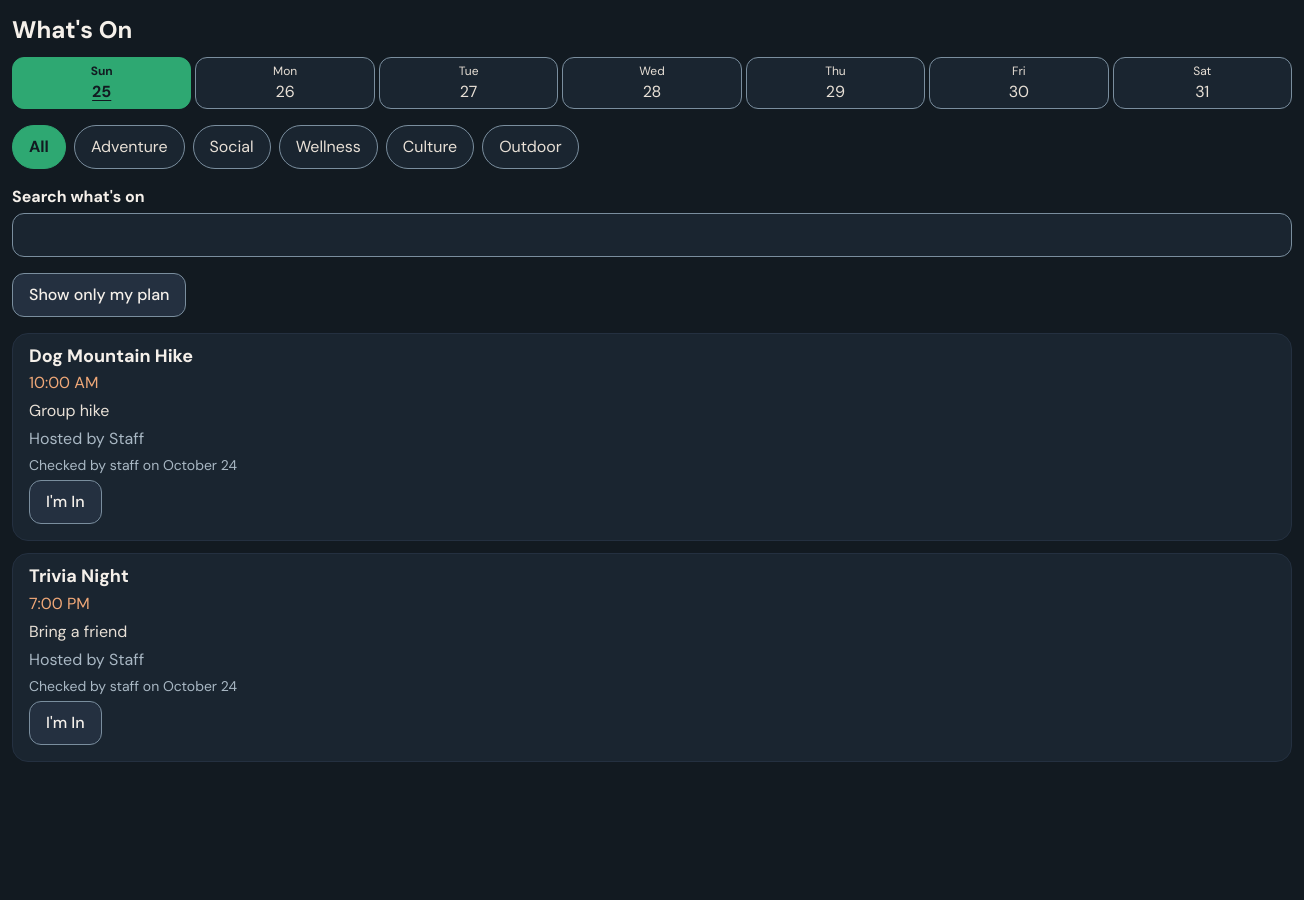
Test: What's On › "I'm In" keeps the activity in a plan on this device only, with no count, and "only my plan" shows just it
Click the button "I'm In" below "Dog Mountain Hike": coordinates (65, 502) [29,480,102,524]
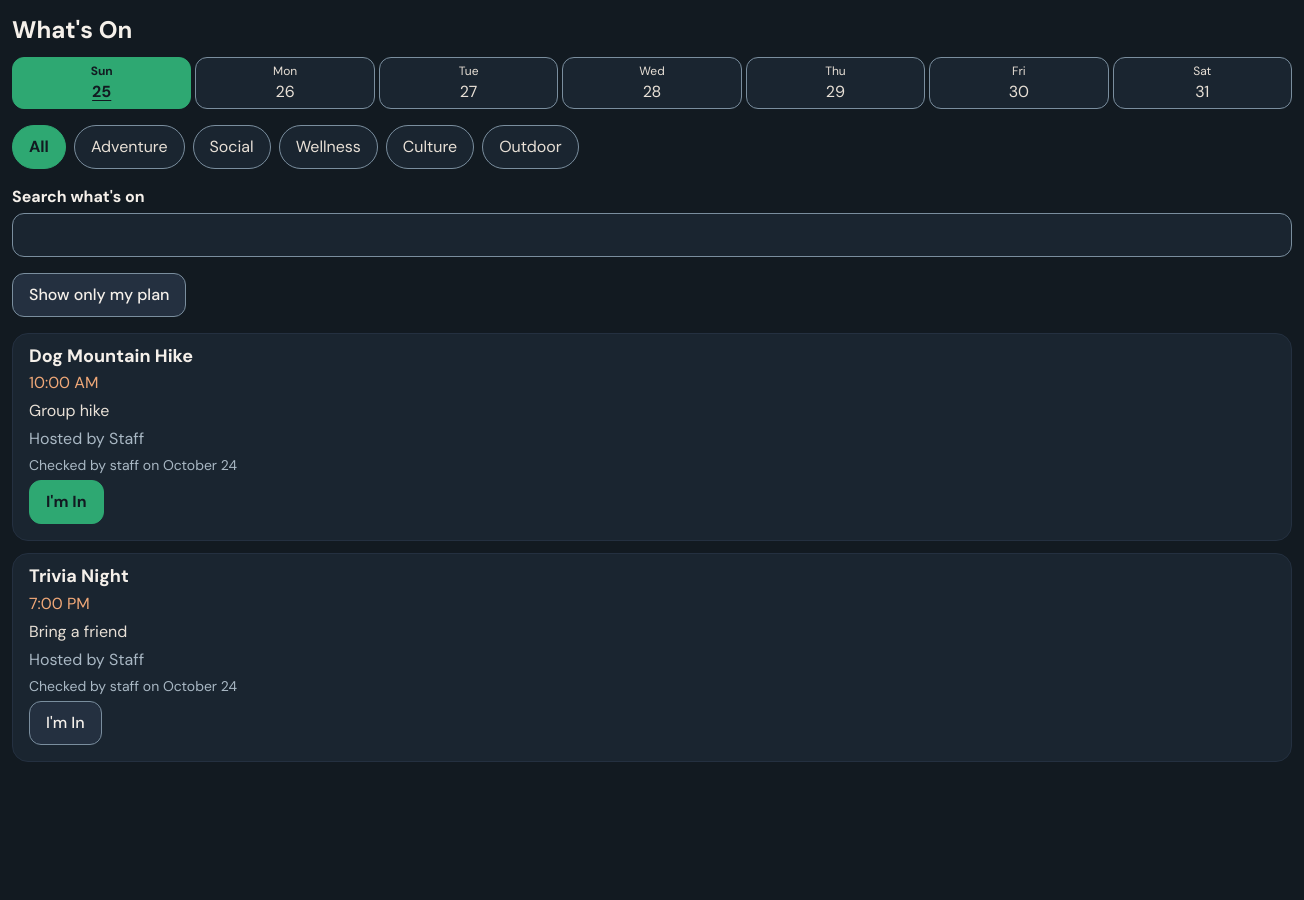
Expected: the button "I'm In" below "Dog Mountain Hike" is pressed, [29,480,104,524]
Click the button "Show only my plan": coordinates (99, 295) [12,273,186,317]
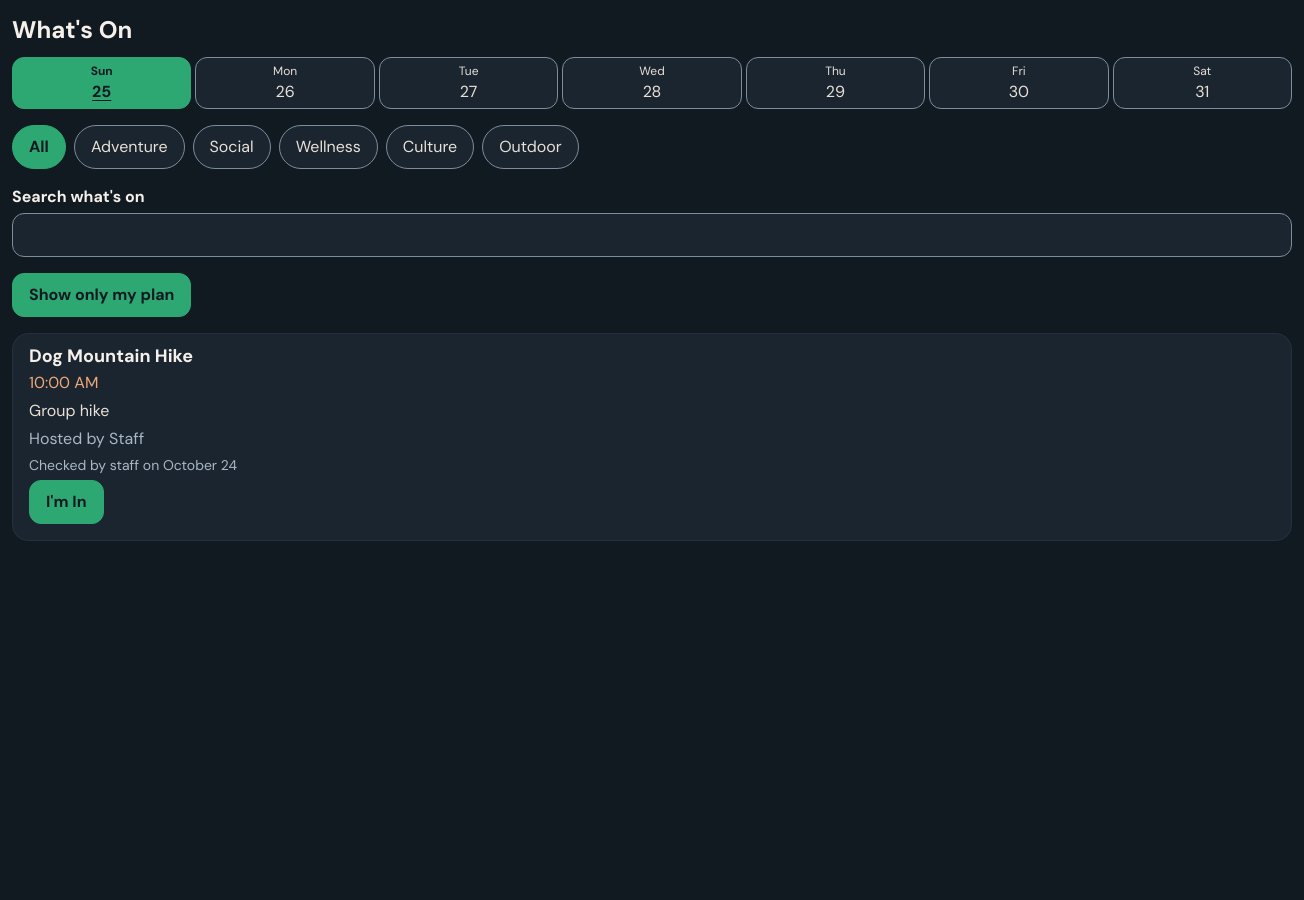
Click the button "I'm In": coordinates (66, 502) [29,480,104,524]
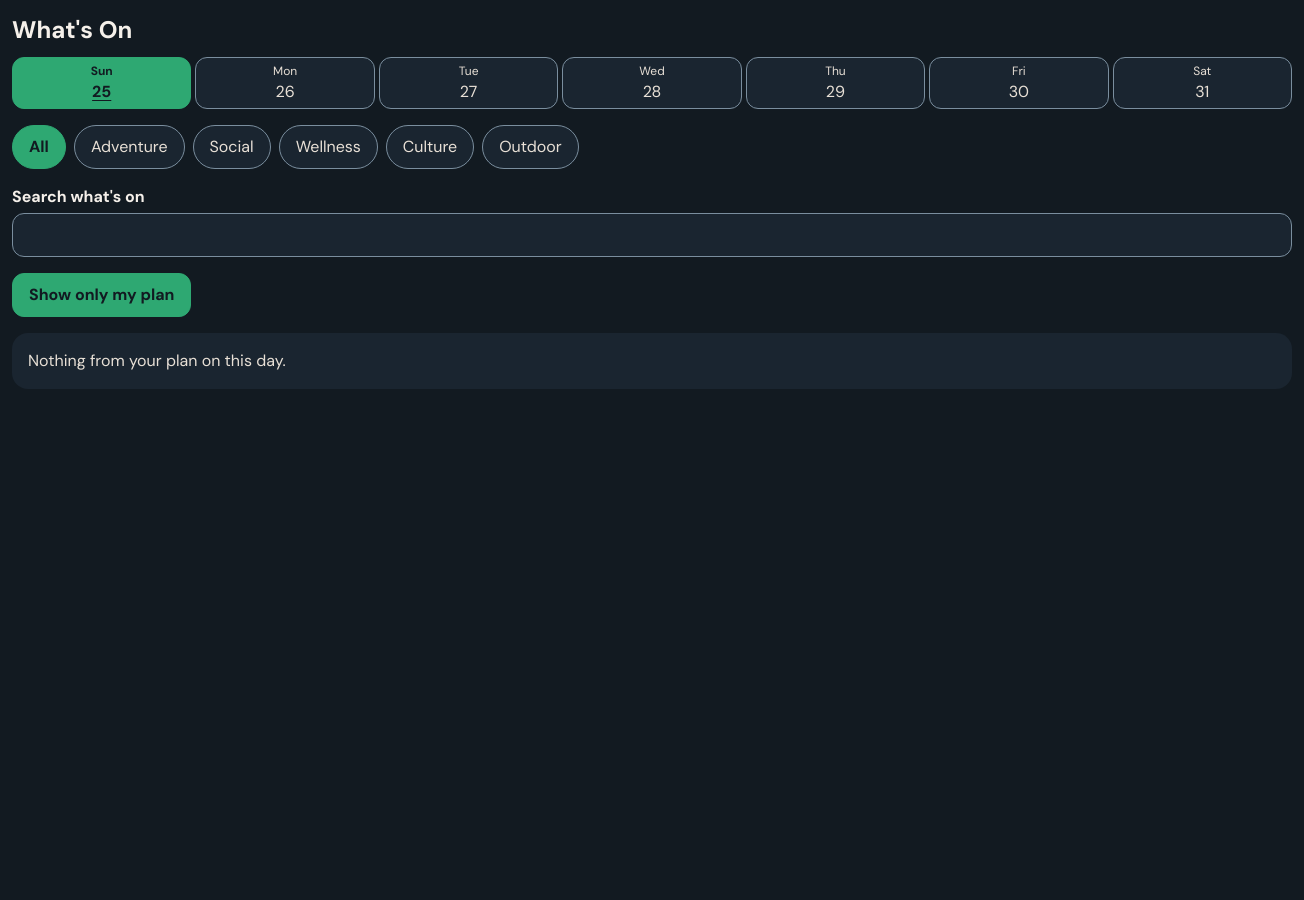
Expected: the text "Nothing from your plan" is shown, [28,350,286,371]
